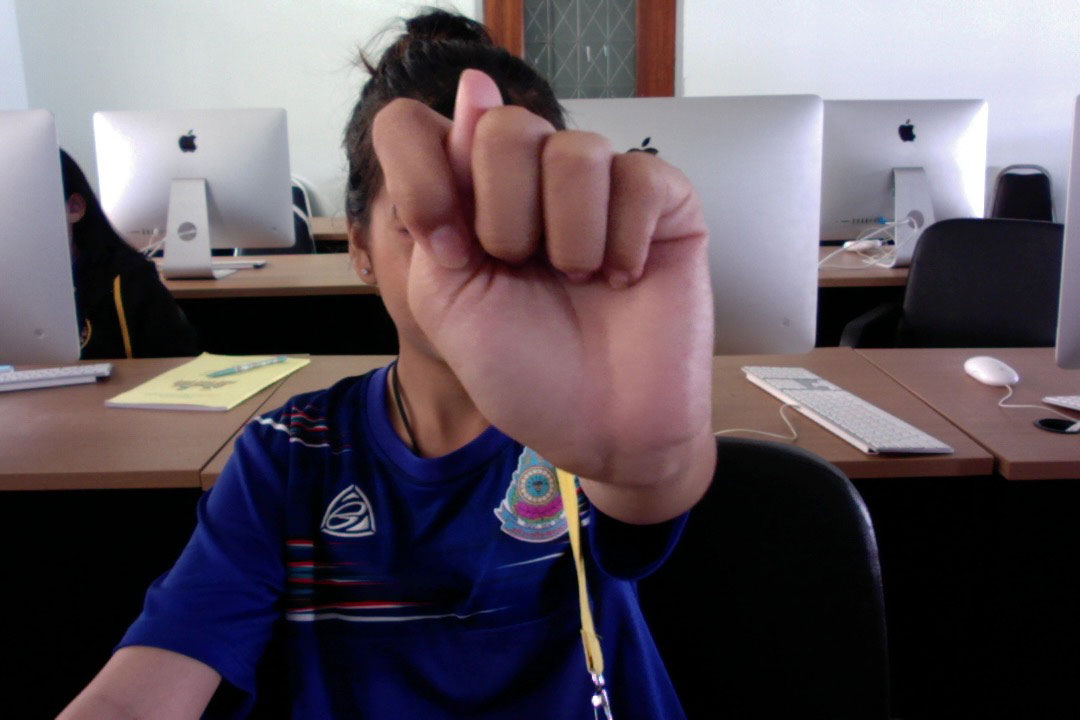tor: (360, 66, 725, 498)
